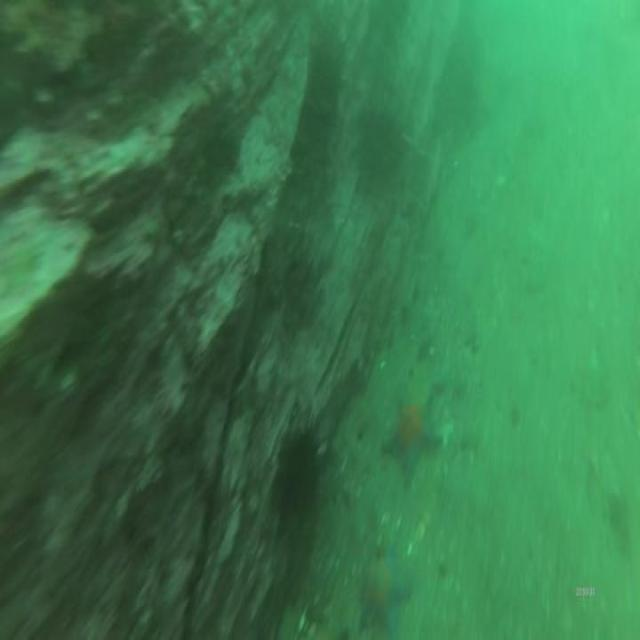echinus: (360, 110, 404, 192), (282, 433, 322, 520)
starfish: (384, 398, 438, 484), (362, 551, 410, 640)
